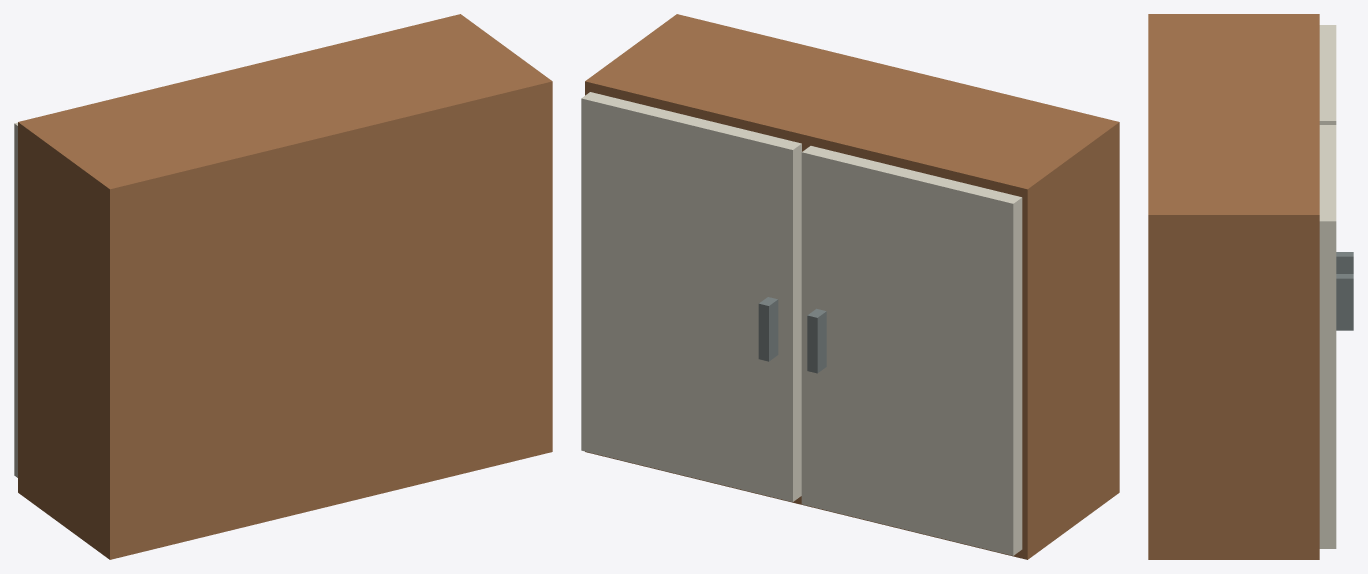
File: kitchen_cupboard.glb
The picture shows the model from 3 angles, left to right: view 1: azimuth 30°, elevation 25°; view 2: azimuth 150°, elevation 25°; view 3: azimuth 270°, elevation 25°; orthographic projection. The views are drawn at different scales.
Visible parts, largest first — view 1: kitchen_cupboard; view 2: kitchen_cupboard; view 3: kitchen_cupboard.
Boxes of the visible parts, bbox=[...] form: kitchen_cupboard: bbox=[14, 14, 552, 559]; kitchen_cupboard: bbox=[581, 14, 1119, 559]; kitchen_cupboard: bbox=[1148, 14, 1353, 559].
Bounding box in the file's own units: 1 × 0.8 × 0.431.
